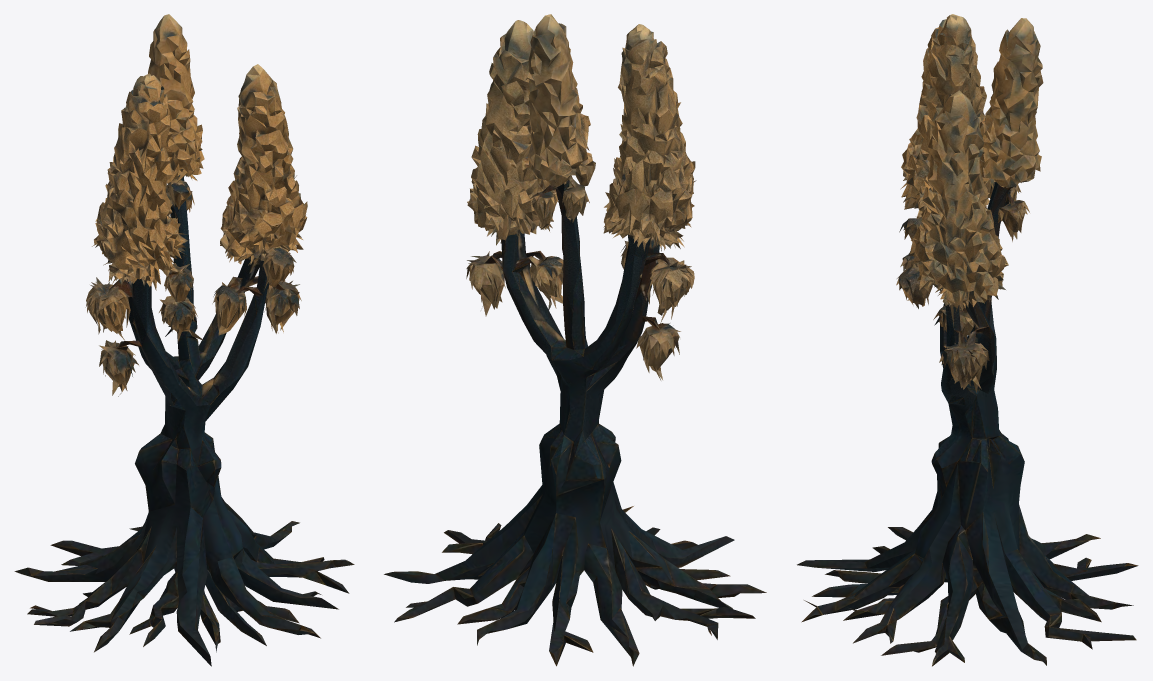
Rendered from lung-plant.glb.
The picture shows the model from 3 angles, left to right: view 1: azimuth 30°, elevation 25°; view 2: azimuth 150°, elevation 25°; view 3: azimuth 270°, elevation 25°; orthographic projection. The views are drawn at different scales.
Visible parts, largest first — view 1: Mesh_0.007; view 2: Mesh_0.007; view 3: Mesh_0.007.
Boxes of the visible parts, left/top/right/bottom form: Mesh_0.007: left=14, top=14, right=354, bottom=666; Mesh_0.007: left=384, top=14, right=766, bottom=666; Mesh_0.007: left=797, top=14, right=1138, bottom=666.
Size of the model in its own units: 1.1 by 1.9 by 1.02.
Materials: 1 (1 with a texture image).
